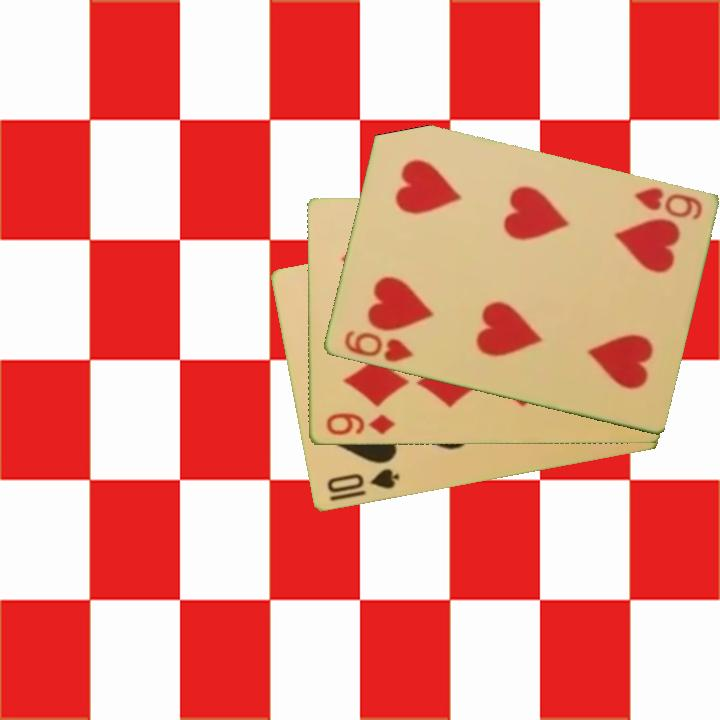10s: (323, 465, 402, 505)
6h: (340, 327, 416, 366), (630, 184, 705, 223)
9d: (322, 410, 398, 439)
